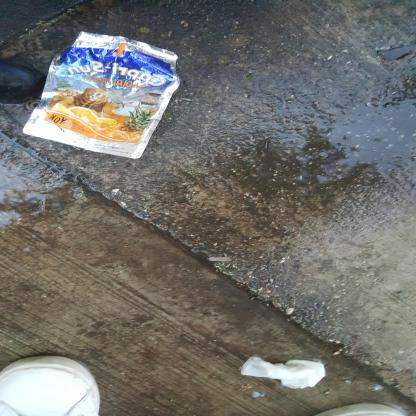kagit: (26, 238, 61, 327)
plastik: (257, 21, 385, 182)
